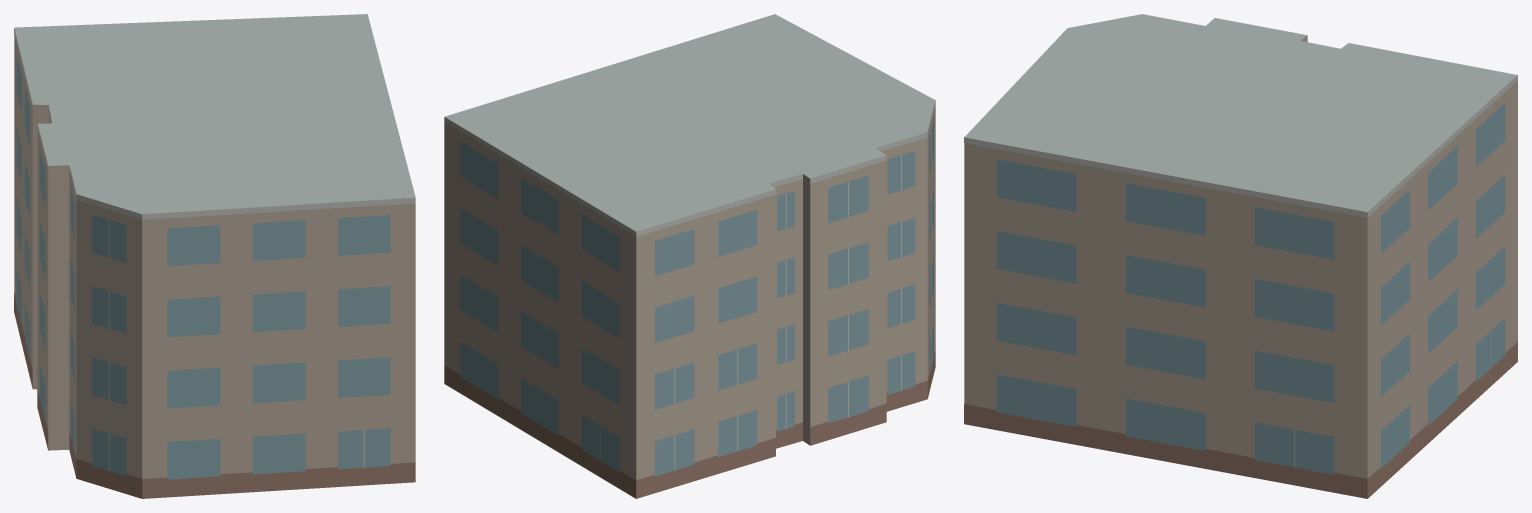
Rendered from survey-upis-32532806.glb.
3 renders of one model, left to right at view 1: azimuth 30°, elevation 25°; view 2: azimuth 150°, elevation 25°; view 3: azimuth 270°, elevation 25°, orthographic. The views are drawn at different scales.
Visible parts, largest first — view 1: survey-upis-32532806.tmp; view 2: survey-upis-32532806.tmp; view 3: survey-upis-32532806.tmp.
Part boxes in pixels (left/top/right/bottom): survey-upis-32532806.tmp: left=14, top=14, right=415, bottom=498; survey-upis-32532806.tmp: left=444, top=14, right=935, bottom=498; survey-upis-32532806.tmp: left=964, top=14, right=1517, bottom=498.
Bounding box in the file's own units: 18.39 × 12.4 × 21.71.
